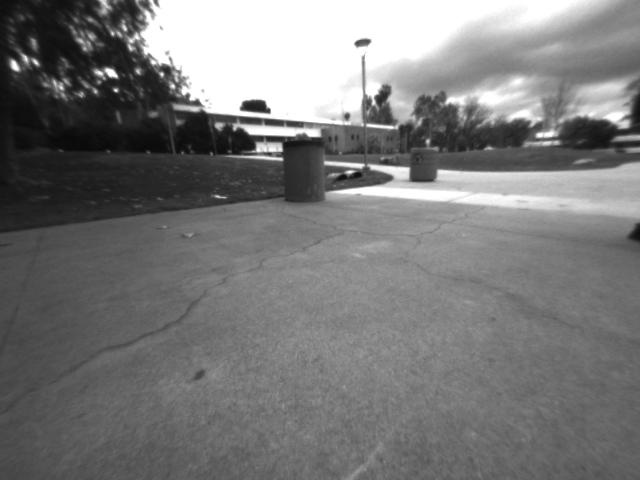trashcan: (280, 137, 328, 203), (406, 145, 440, 187)
